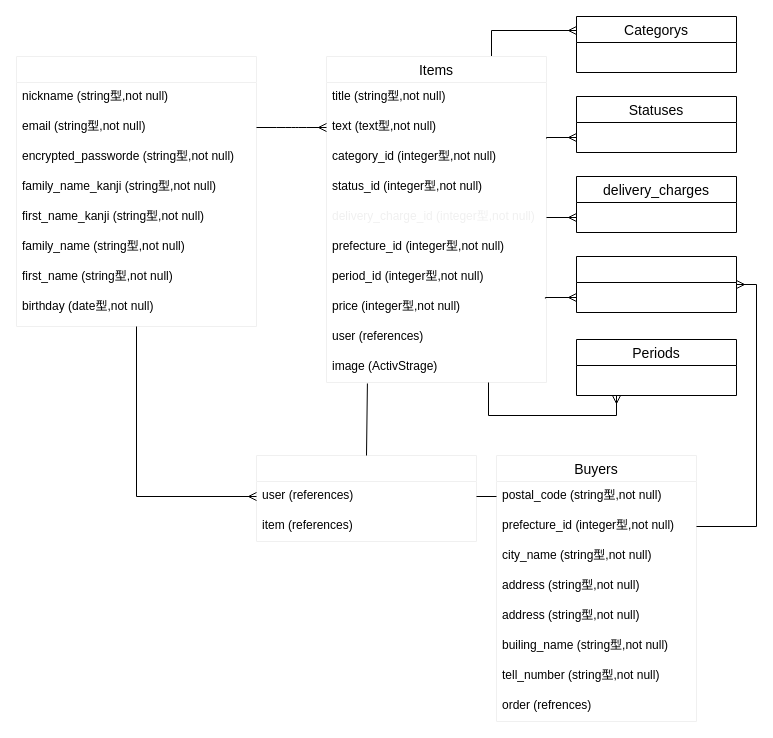
Some shapes in this 773 by 738 pixel diagram are drawn without their labels. Each missing label, with the box of its shape:
Orders: (256, 454, 476, 542)
Prefectures: (576, 256, 736, 312)
Users: (16, 56, 256, 326)
